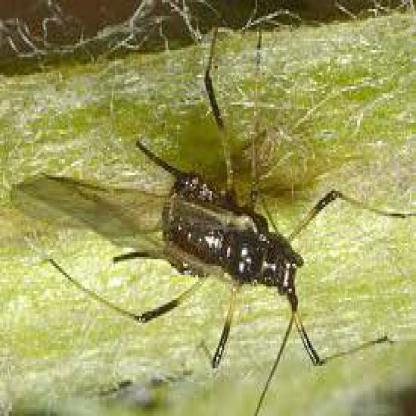uroleucon compositae: (9, 28, 337, 364)
